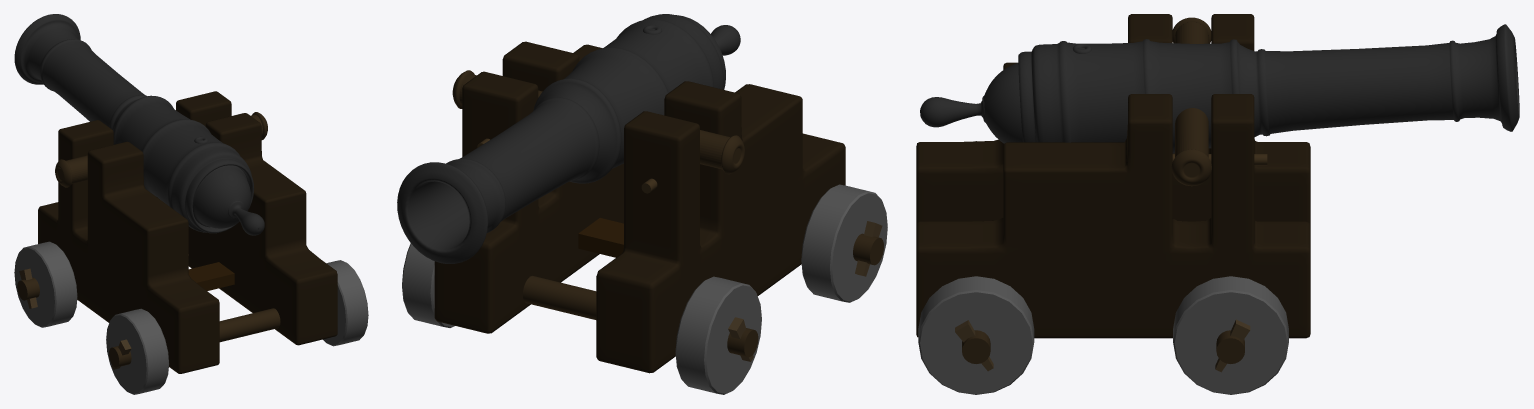
File: Cannon.fbx
The picture shows the model from 3 angles, left to right: view 1: azimuth 30°, elevation 25°; view 2: azimuth 150°, elevation 25°; view 3: azimuth 270°, elevation 25°; orthographic projection. The views are drawn at different scales.
Parts seen in each view (by area): view 1: Cannon; view 2: Cannon; view 3: Cannon.
Part boxes in pixels (<box>): Cannon: <box>14,14,368,394</box>; Cannon: <box>397,14,887,394</box>; Cannon: <box>916,14,1519,394</box>.
Bounding box in the file's own units: 1.92 × 1.57 × 2.94.
